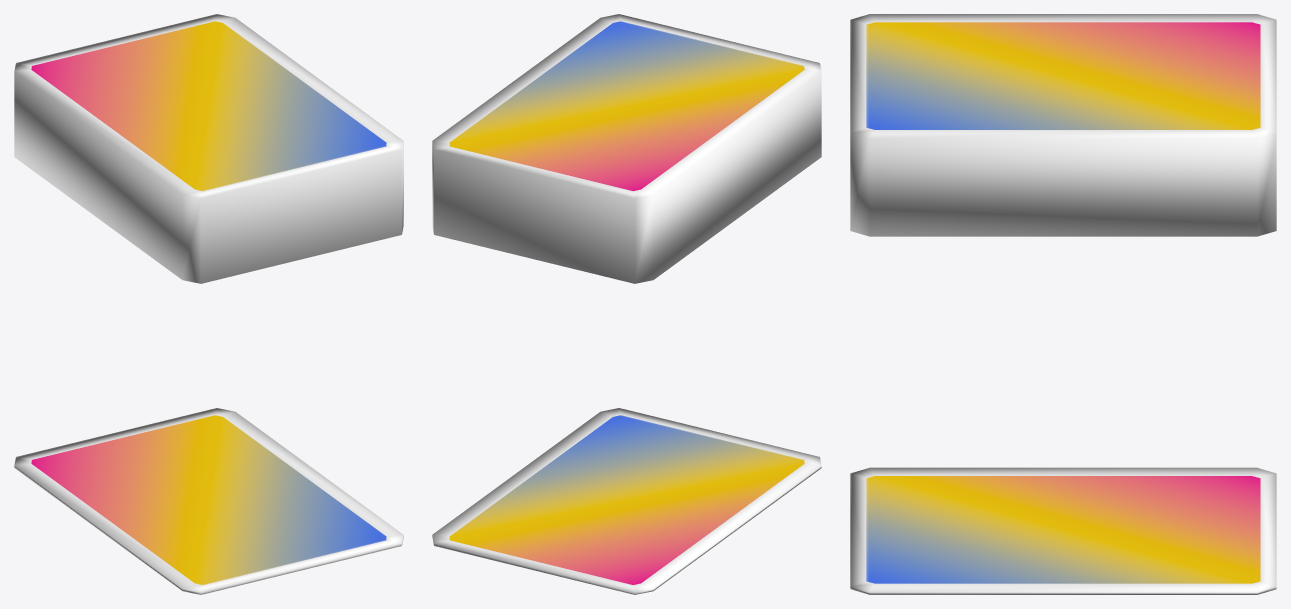
The model's file is NEWCARDS.fbx.
3 views of the same model, side by side, from view 1: azimuth 30°, elevation 25°; view 2: azimuth 150°, elevation 25°; view 3: azimuth 270°, elevation 25° (orthographic). The views are drawn at different scales.
Visible parts, largest first — view 1: Plane.002, Plane.001; view 2: Plane.002, Plane.001; view 3: Plane.002, Plane.001.
Part boxes in pixels (x1,y1,x2,y2): Plane.002: [14, 14, 403, 283]; Plane.001: [14, 408, 403, 594]; Plane.002: [432, 14, 821, 283]; Plane.001: [432, 408, 821, 594]; Plane.002: [850, 14, 1276, 236]; Plane.001: [850, 467, 1276, 594].
Size of the model in its own units: 61.11 by 105 by 88.58.
